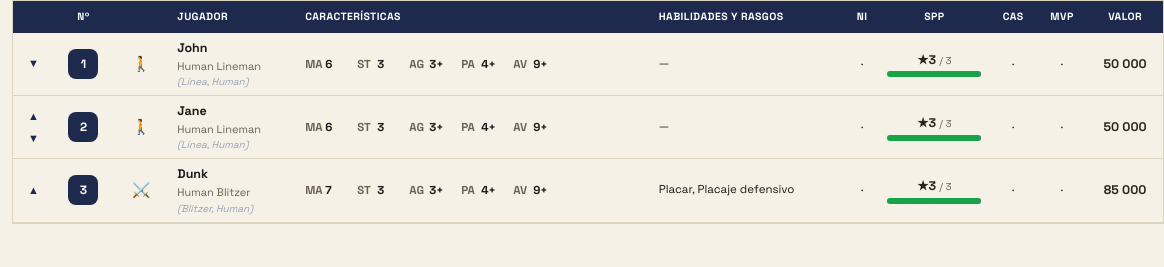
TeamRosterTable › RAU-9: a failed reorder reverts the order and surfaces the error
Click the button with test id "reorder-down-p1" at point(34, 64), box [22,54,46,74]
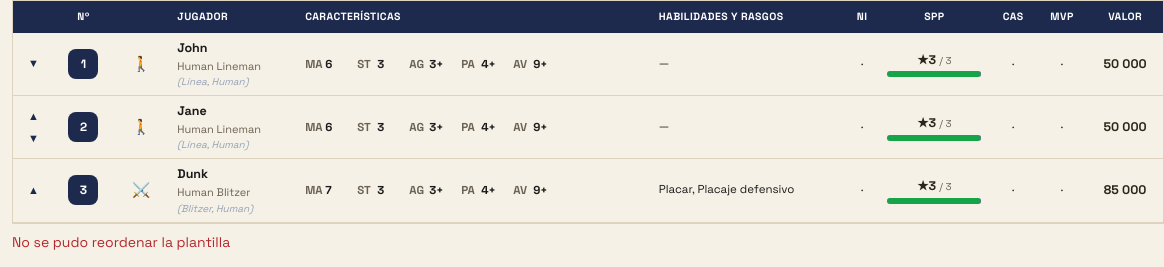
Check: the text with test id "roster-number-p1" reads "1", box [81,56,86,72]
Check: the text with test id "roster-reorder-error" shows "No se pudo reordenar", box [12,232,230,250]
